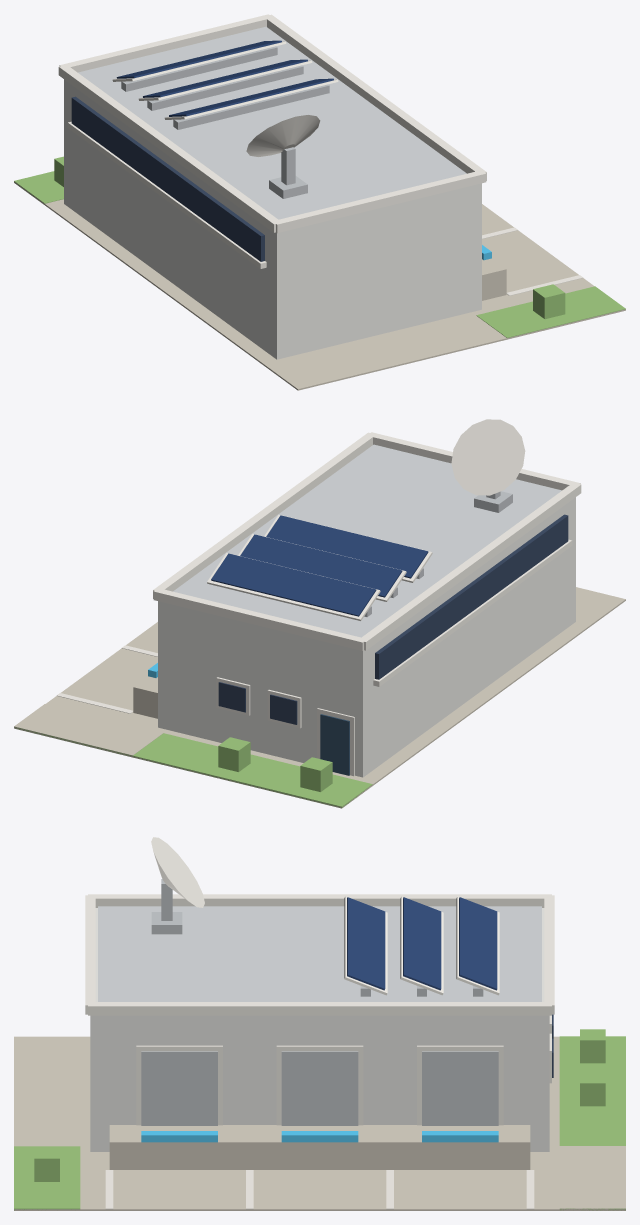
3 views of the same model, one above another, from view 1: azimuth 30°, elevation 25°; view 2: azimuth 150°, elevation 25°; view 3: azimuth 270°, elevation 25° (orthographic). The views are drawn at different scales.
Visible parts, largest first — view 1: hall, roof, yard, parapet (×4), window_band, panel_rail (×3), lawn (×2), solar_panel (×3), satellite_dish, solar_frame (×3), sill, tree_spot (+3 smaller); view 2: hall, roof, solar_panel (×3), parapet (×4), yard, window_band, lawn, satellite_dish, driveway, tree_spot (×2), sill, door (+5 smaller); view 3: hall, roof, yard, garage_door (×3), dock, parapet (×4), lawn (×2), solar_panel (×3), garage_door_frame (×3), driveway, bumper (×3), tree_spot (×3) (+3 smaller).
Part boxes in pixels (x1,y1,x2,y2): hall: (64, 79, 481, 359); roof: (78, 26, 466, 219); yard: (14, 181, 625, 390); parapet (×4): (58, 14, 486, 233); window_band: (71, 96, 264, 261); panel_rail (×3): (121, 46, 329, 129); lawn (×2): (14, 171, 625, 337); solar_panel (×3): (116, 40, 333, 116); satellite_dish: (246, 115, 320, 156); solar_frame (×3): (112, 41, 338, 119); sill: (67, 121, 266, 268); tree_spot: (533, 284, 565, 319); hall: (158, 497, 575, 777); roof: (173, 444, 561, 637); solar_panel (×3): (211, 515, 428, 616); parapet (×4): (153, 432, 581, 650); yard: (14, 587, 625, 808); window_band: (375, 514, 568, 679); lawn: (15, 727, 372, 808); satellite_dish: (451, 419, 525, 495); driveway: (14, 704, 163, 757); tree_spot (×2): (218, 737, 332, 791); sill: (373, 539, 572, 686); door: (320, 714, 349, 775); hall: (90, 908, 549, 1151); roof: (98, 906, 541, 1001); yard: (14, 1036, 625, 1210); garage_door (×3): (141, 1051, 498, 1125); dock: (109, 1125, 530, 1169); parapet (×4): (85, 894, 554, 1015); lawn (×2): (14, 1036, 625, 1210); solar_panel (×3): (347, 897, 497, 990); garage_door_frame (×3): (136, 1045, 503, 1125); driveway: (559, 1146, 625, 1209); bumper (×3): (141, 1131, 498, 1142); tree_spot (×3): (34, 1029, 605, 1181).
Size of the model in its own units: 16 by 9.91 by 24.
